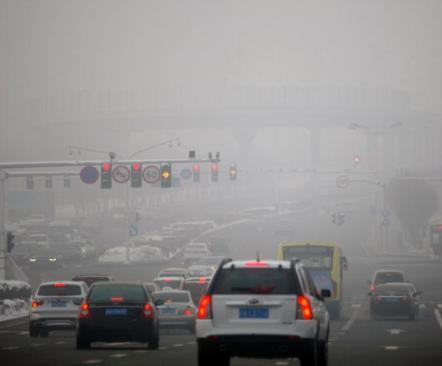bus: (275, 240, 349, 318)
car: (189, 254, 333, 364), (74, 281, 166, 349), (27, 278, 92, 339), (145, 286, 198, 335), (364, 282, 417, 322), (70, 272, 116, 316), (181, 274, 218, 318), (367, 269, 409, 306), (186, 255, 228, 280), (150, 274, 184, 304), (26, 247, 66, 269), (156, 268, 191, 293), (46, 219, 77, 244), (13, 241, 41, 264), (27, 233, 53, 252)
